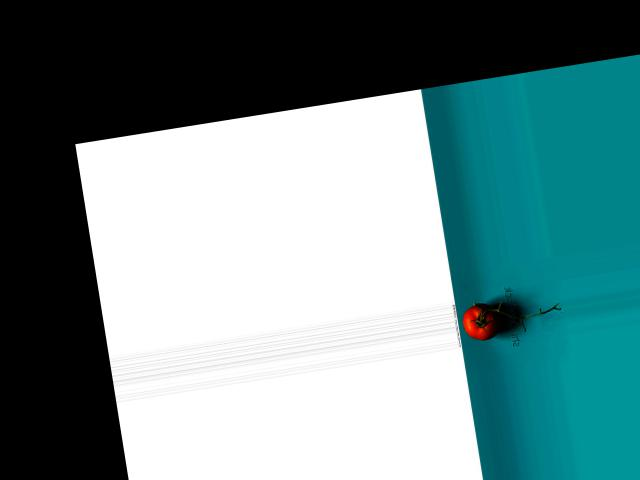tomato: (461, 299, 502, 342)
